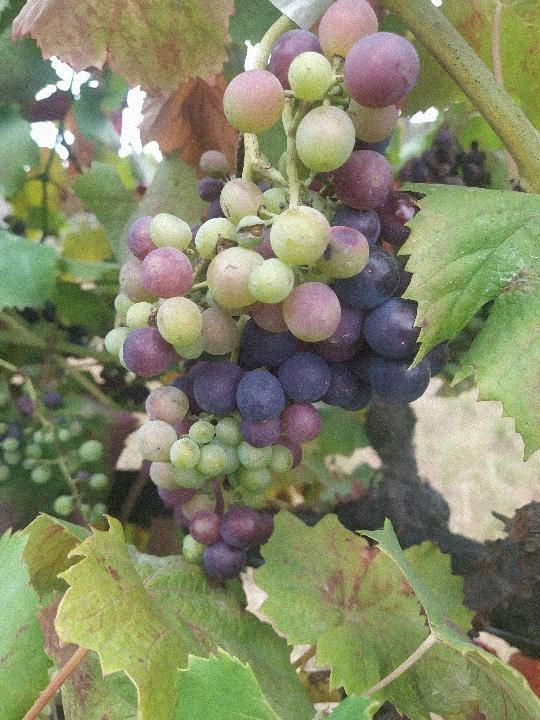grape: (108, 4, 447, 580)
